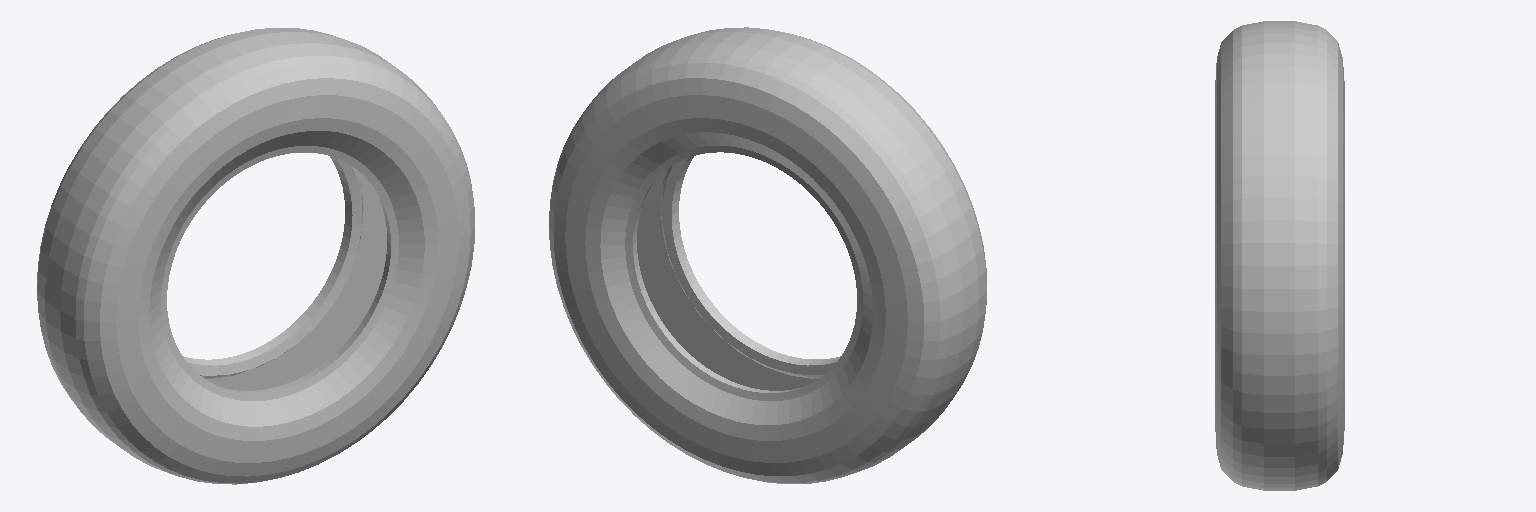
3 renders of one model, left to right at view 1: azimuth 30°, elevation 25°; view 2: azimuth 150°, elevation 25°; view 3: azimuth 270°, elevation 25°, orthographic.
Visible parts, largest first — view 1: old_tyre; view 2: old_tyre; view 3: old_tyre.
Part boxes in pixels (bbox=[...]): old_tyre: bbox=[37, 28, 474, 484]; old_tyre: bbox=[549, 27, 986, 483]; old_tyre: bbox=[1215, 21, 1344, 490].
Size of the model in its own units: 0.6 by 0.6 by 0.165.